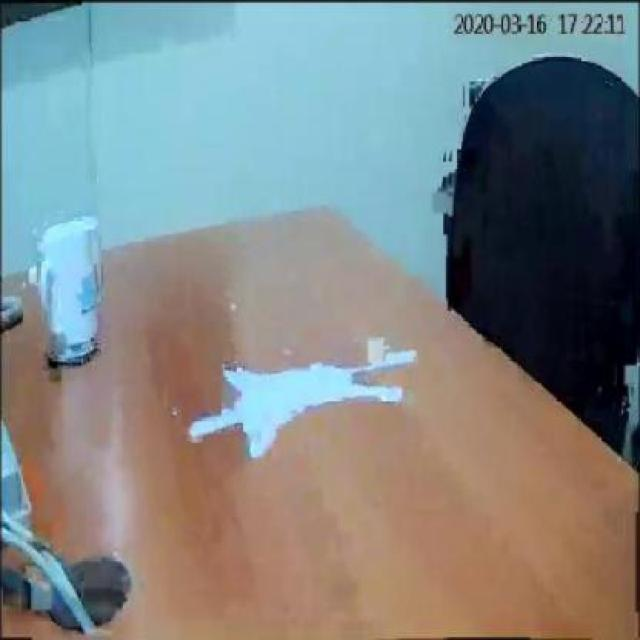spillage: (188, 353, 416, 461)
